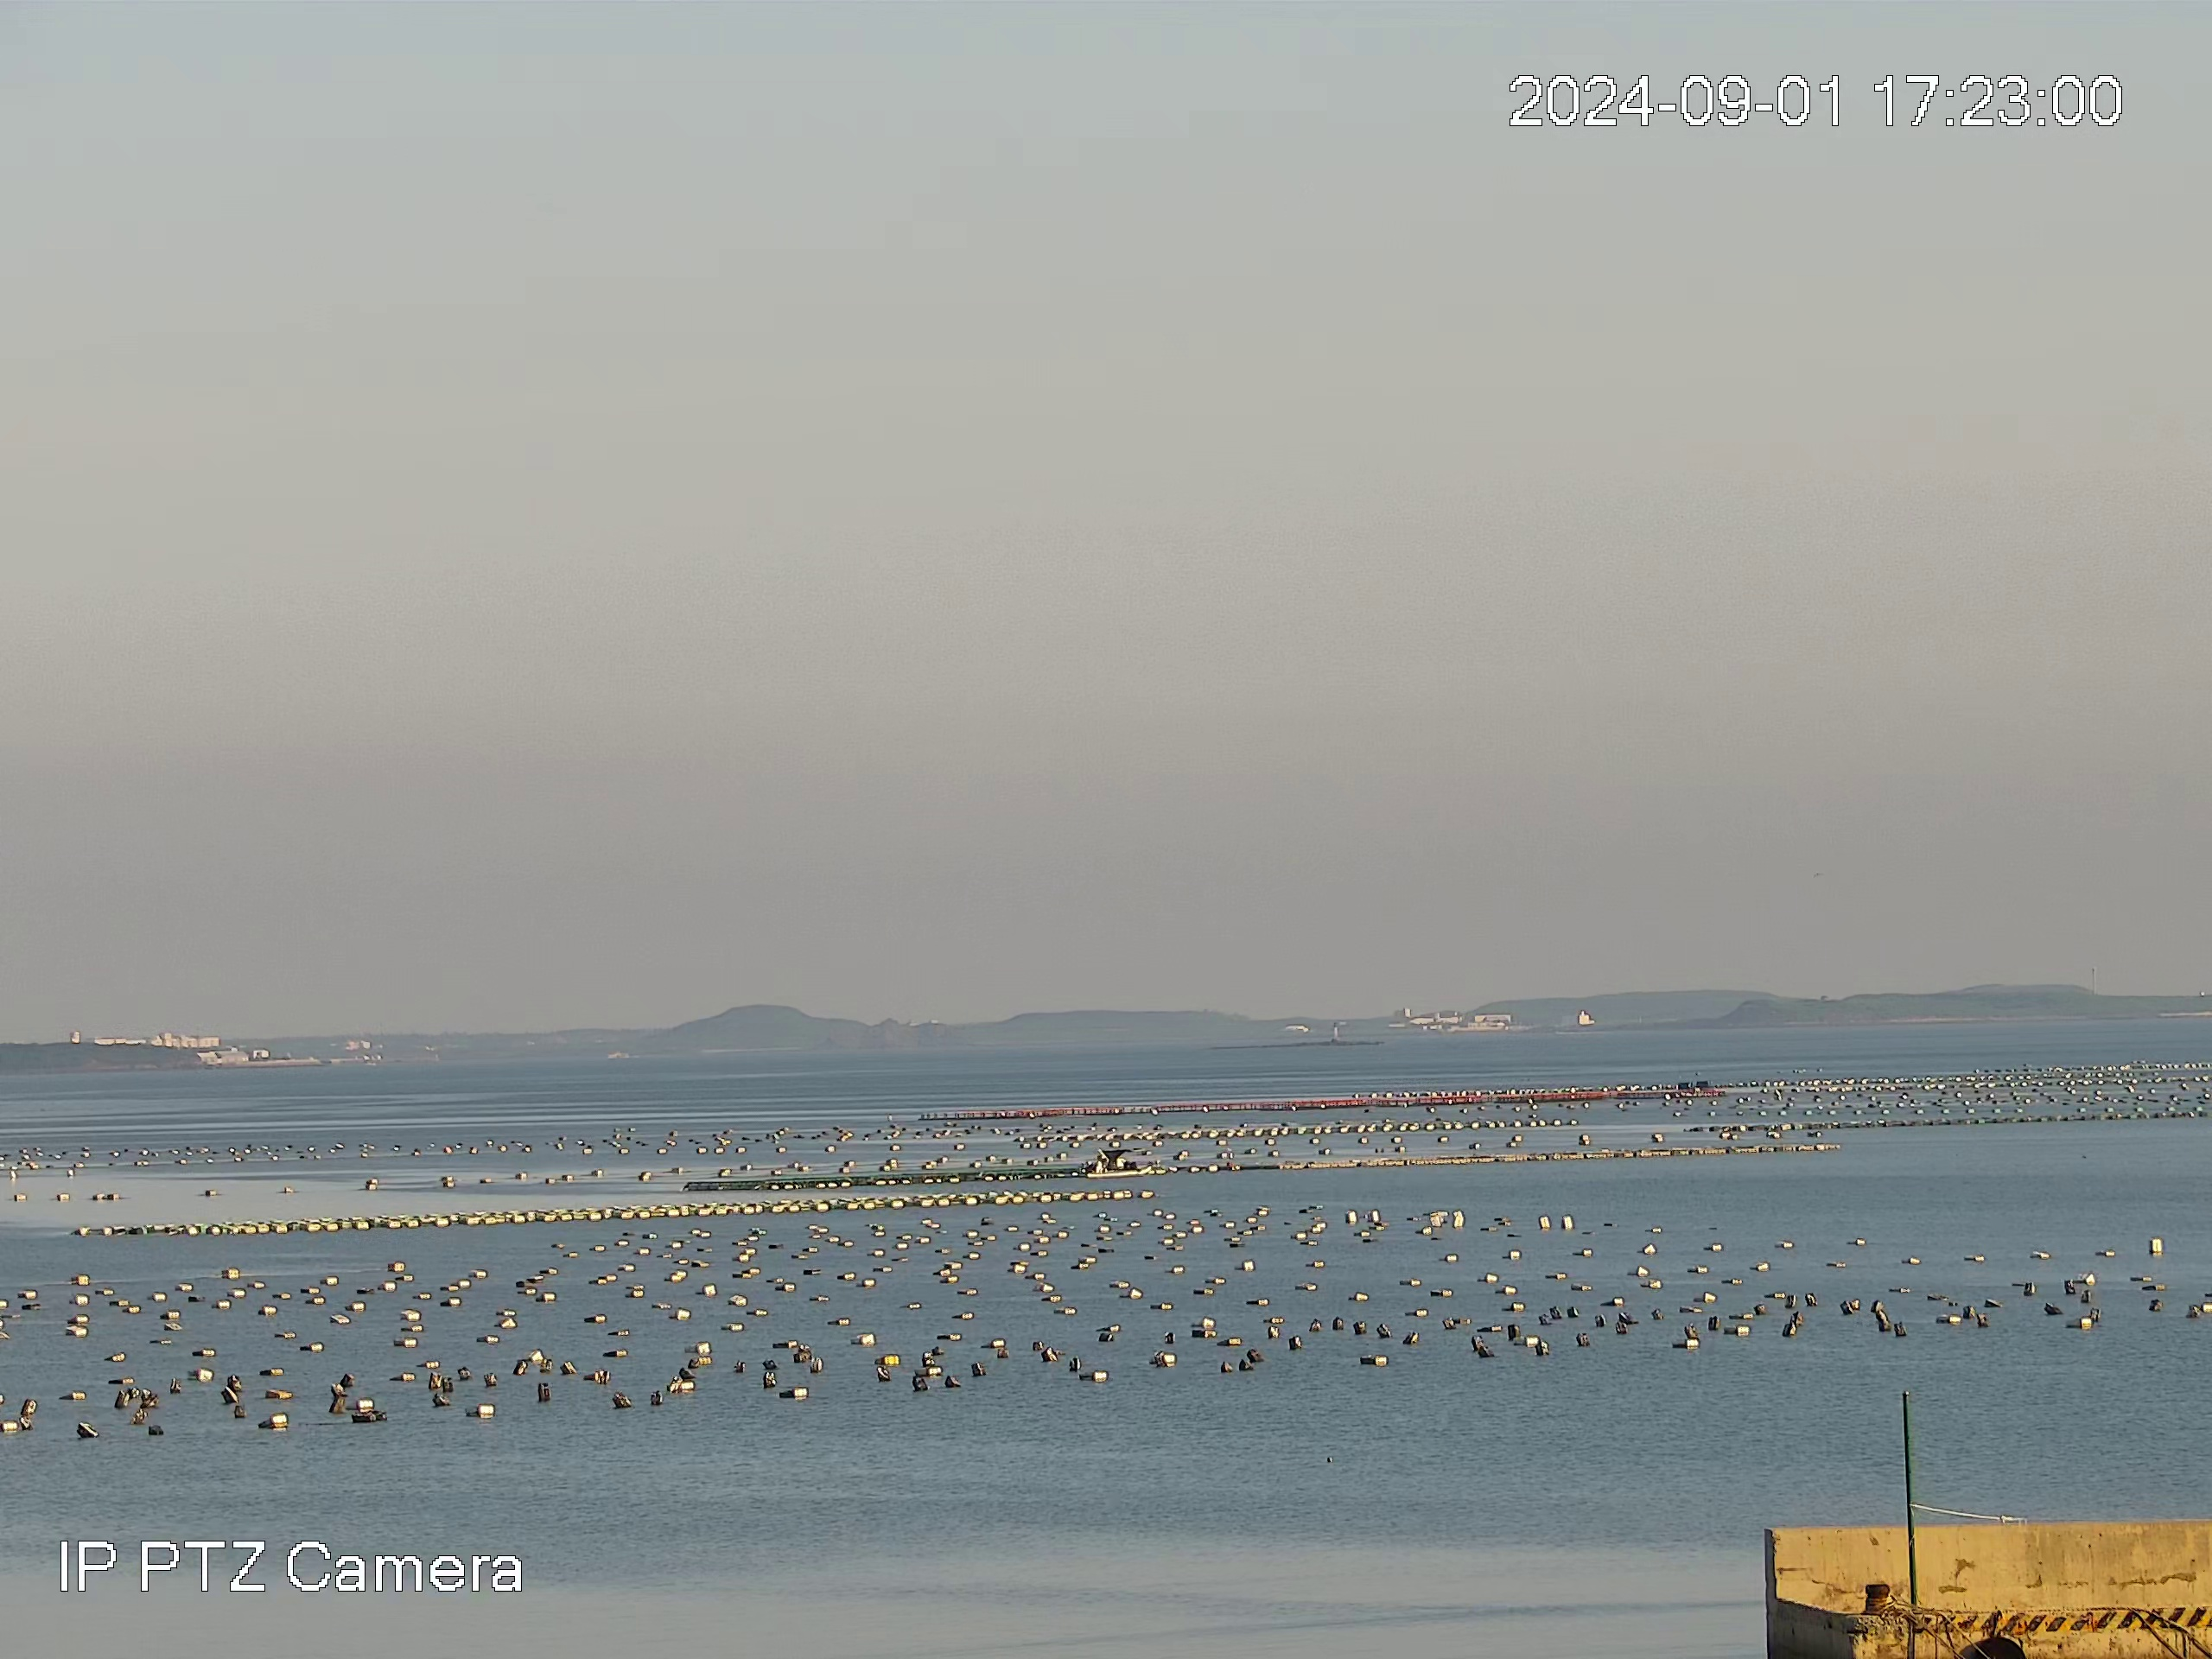boat: (1087, 1145, 1155, 1176)
